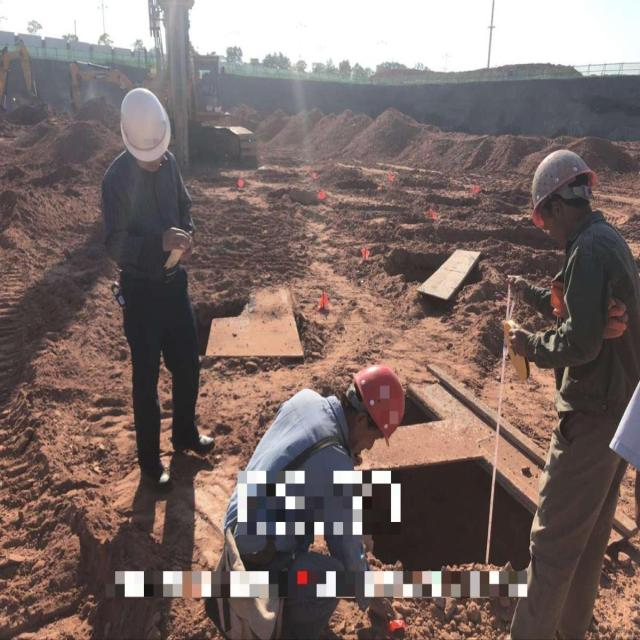excavator: (0, 33, 45, 128)
